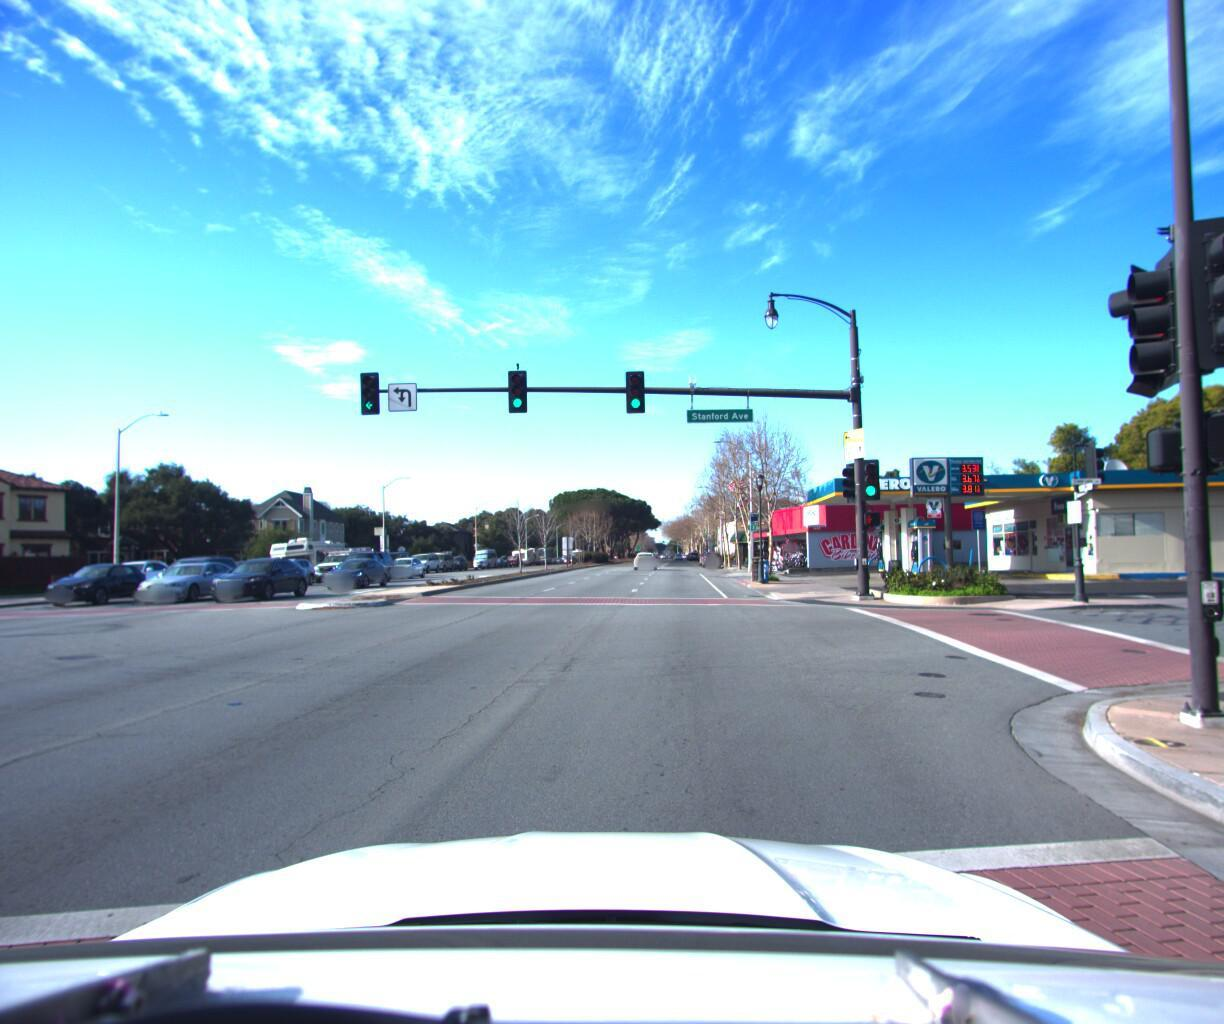bicycle: (766, 552, 790, 568)
car: (202, 552, 316, 607), (129, 557, 255, 604), (39, 560, 162, 608), (145, 551, 249, 597), (86, 556, 186, 600), (301, 541, 381, 580), (315, 553, 396, 588), (252, 552, 321, 586), (379, 553, 431, 579), (1196, 529, 1224, 567), (403, 547, 443, 570), (630, 544, 657, 564), (700, 543, 721, 563)
other_vehicle: (263, 531, 351, 584)
